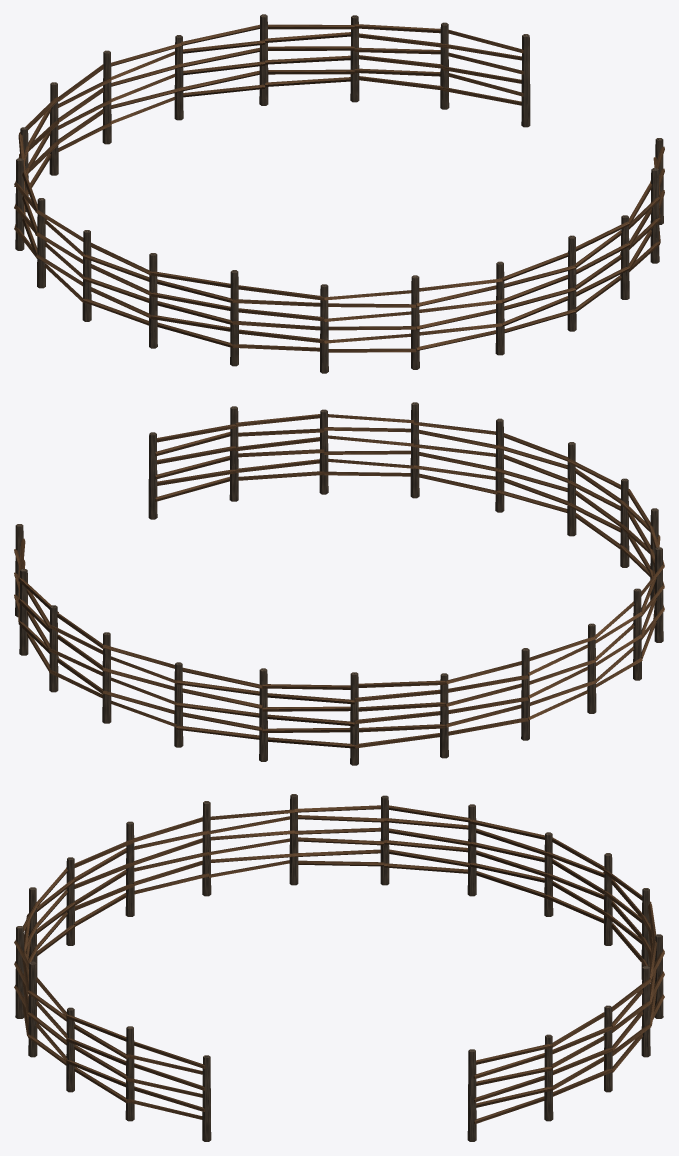
File: recinto_animali.glb
3 views of the same model, one above another, from view 1: azimuth 30°, elevation 25°; view 2: azimuth 150°, elevation 25°; view 3: azimuth 270°, elevation 25° (orthographic).
Visible parts, largest first — view 1: recinto_animali; view 2: recinto_animali; view 3: recinto_animali.
Boxes of the visible parts, x1,y1,x2,y2 form: recinto_animali: [14, 14, 664, 373]; recinto_animali: [14, 402, 664, 765]; recinto_animali: [14, 794, 664, 1141].
Bounding box in the file's own units: 9.67 × 1.6 × 10.19.
Materials: 2 (2 with a texture image).
